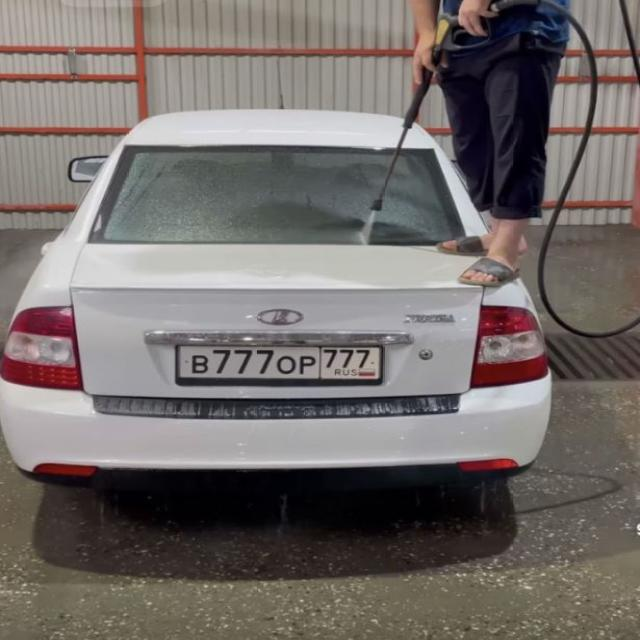number-plates: (172, 342, 385, 388)
